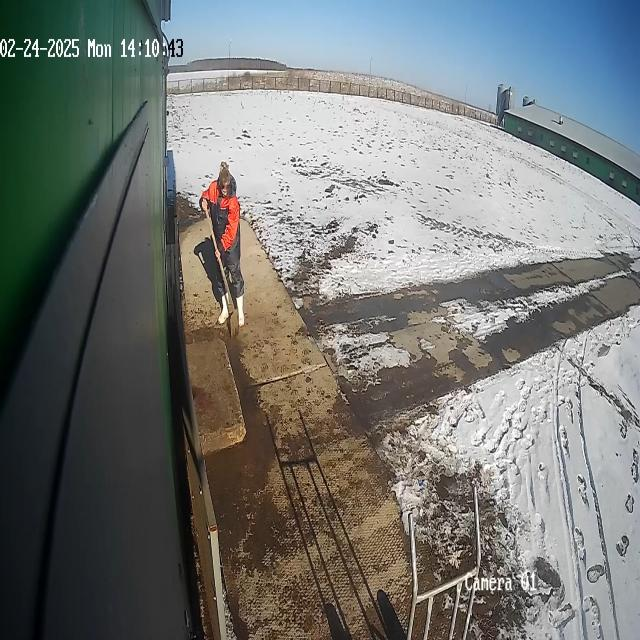Red uniform: (198, 162, 246, 332)
